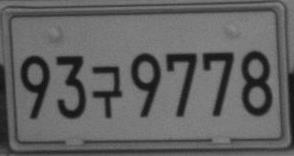3: (55, 55, 86, 119)
7: (202, 51, 235, 117), (165, 52, 197, 117)
8: (240, 49, 273, 116)
9: (129, 52, 161, 118), (20, 54, 50, 119)
구: (92, 64, 122, 118)
